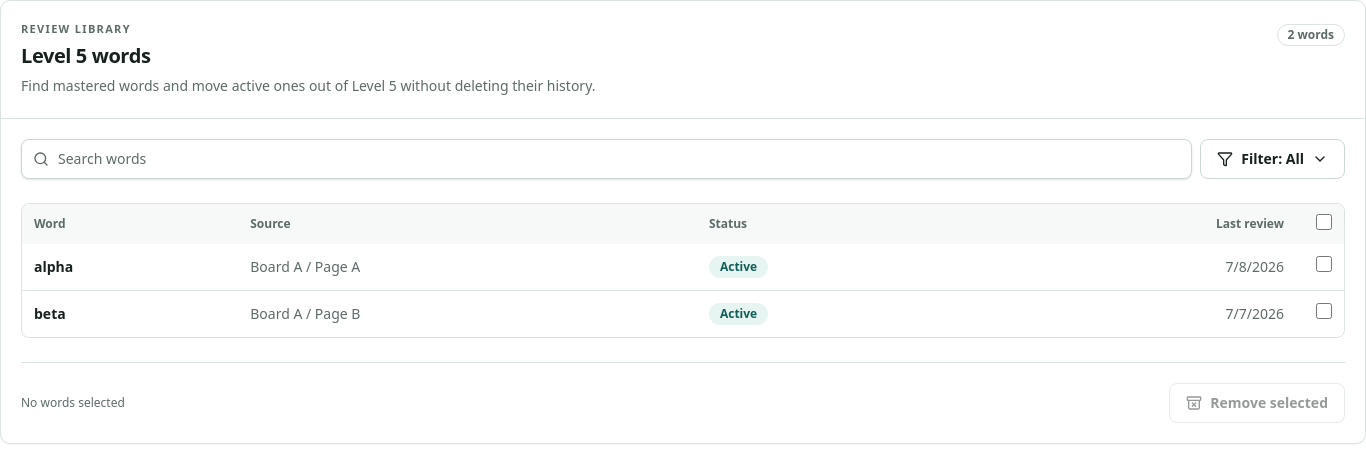
Scenario: LevelFiveSettingsPage redesigned management › keeps the selection intact when the move to Trash fails
Expected: the text "alpha" is shown, [22,244,238,290]
Click the checkbox named "Select alpha".
click(1324, 264)  # box [1316,256,1332,272]
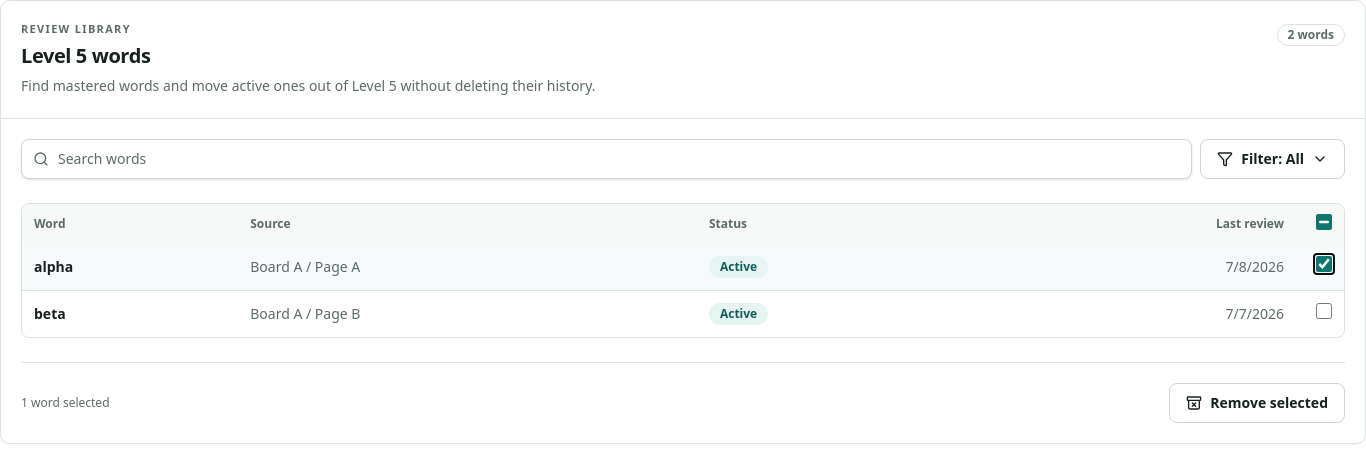
Click the button "Remove selected".
click(1257, 402)  # box [1169,382,1345,422]
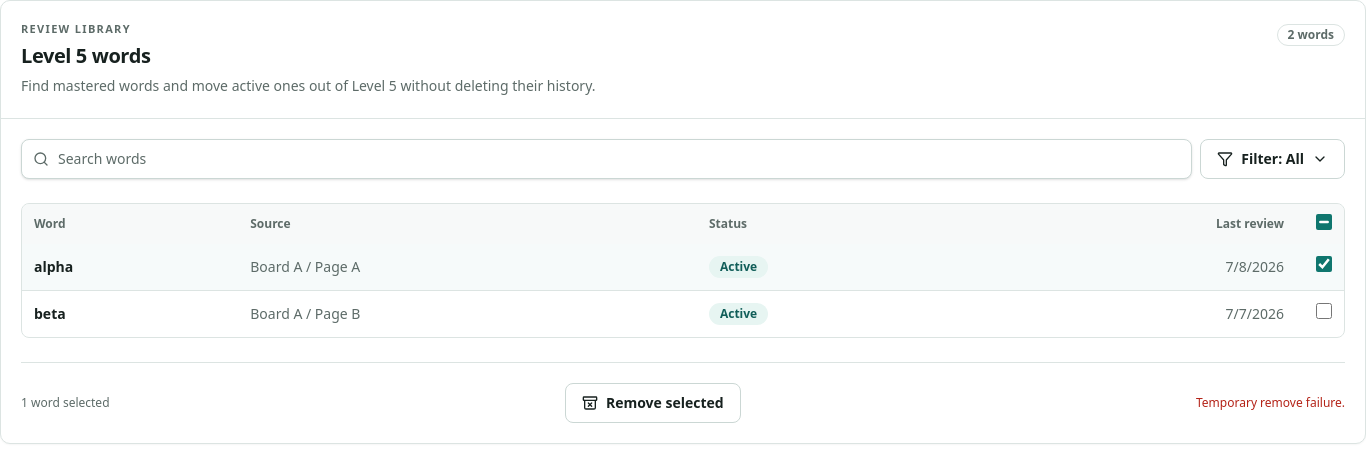
Expected: the checkbox named "Select alpha" is checked, [1316,256,1332,272]
Expected: the message reads "Temporary remove failure.", [1196,394,1345,410]
